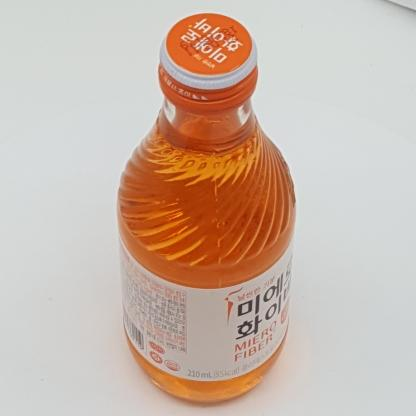--------210ML: (117, 13, 296, 404)
